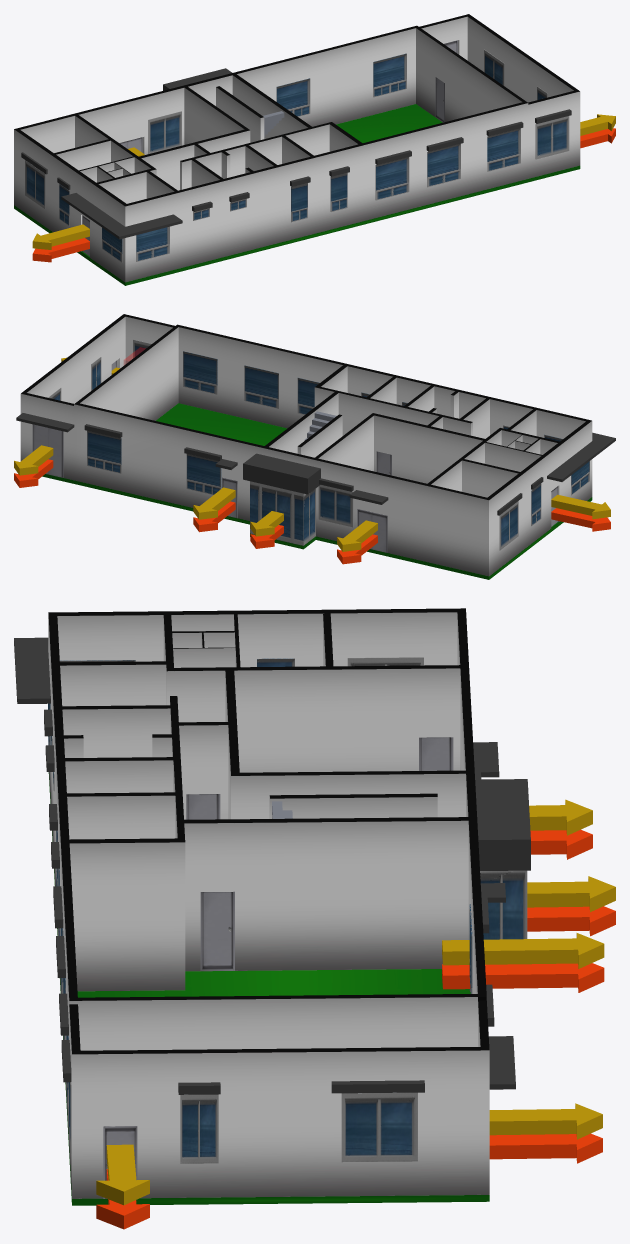
The model's file is soulbrain_UP-3-1F.glb.
3 renders of one model, top to bottom at view 1: azimuth 30°, elevation 25°; view 2: azimuth 150°, elevation 25°; view 3: azimuth 270°, elevation 25°, orthographic. The views are drawn at different scales.
Visible parts, largest first — view 1: Box1982, UP-3-1F, Box001, arrow_Y_6_UP-3-1F, arrow_R_6_UP-3-1F, arrow_Y_5_UP-3-1F, arrow_R_5_UP-3-1F, Box687; view 2: Box1982, UP-3-1F, Box001, arrow_Y_6_UP-3-1F, arrow_R_6_UP-3-1F, arrow_Y_3_UP-3-1F, arrow_Y_1_UP-3-1F, arrow_Y_4_UP-3-1F, arrow_Y_2_UP-3-1F, arrow_R_3_UP-3-1F, arrow_R_1_UP-3-1F, arrow_R_4_UP-3-1F (+1 smaller); view 3: Box1982, UP-3-1F, Box001, arrow_Y_3_UP-3-1F, arrow_R_3_UP-3-1F, arrow_Y_4_UP-3-1F, Box1983, arrow_R_4_UP-3-1F, arrow_Y_2_UP-3-1F, arrow_R_2_UP-3-1F, arrow_Y_5_UP-3-1F, arrow_Y_1_UP-3-1F (+4 smaller).
Part boxes in pixels (box(x1,y1,x2,y2)): Box1982: box(14, 14, 580, 282); UP-3-1F: box(21, 40, 571, 262); Box001: box(14, 104, 580, 285); arrow_Y_6_UP-3-1F: box(32, 224, 89, 249); arrow_R_6_UP-3-1F: box(32, 238, 89, 262); arrow_Y_5_UP-3-1F: box(580, 114, 615, 135); arrow_R_5_UP-3-1F: box(580, 128, 615, 148); Box687: box(435, 77, 444, 122); Box1982: box(20, 314, 592, 576); UP-3-1F: box(16, 339, 615, 552); Box001: box(42, 403, 592, 579); arrow_Y_6_UP-3-1F: box(551, 494, 610, 519); arrow_R_6_UP-3-1F: box(551, 508, 610, 531); arrow_Y_3_UP-3-1F: box(193, 487, 235, 519); arrow_Y_1_UP-3-1F: box(337, 520, 377, 551); arrow_Y_4_UP-3-1F: box(14, 445, 53, 475); arrow_Y_2_UP-3-1F: box(250, 511, 283, 536); arrow_R_3_UP-3-1F: box(193, 501, 235, 532); arrow_R_1_UP-3-1F: box(337, 534, 377, 564); arrow_R_4_UP-3-1F: box(14, 459, 53, 487); Box1982: box(48, 608, 489, 1198); UP-3-1F: box(14, 637, 530, 1198); Box001: box(48, 772, 489, 1205); arrow_Y_3_UP-3-1F: box(442, 933, 604, 968); arrow_R_3_UP-3-1F: box(442, 963, 604, 992); arrow_Y_4_UP-3-1F: box(489, 1103, 602, 1139); Box1983: box(200, 891, 234, 971); arrow_R_4_UP-3-1F: box(489, 1133, 602, 1163); arrow_Y_2_UP-3-1F: box(527, 876, 615, 912); arrow_R_2_UP-3-1F: box(527, 906, 615, 936); arrow_Y_5_UP-3-1F: box(96, 1144, 149, 1205); arrow_Y_1_UP-3-1F: box(529, 799, 592, 835).
Size of the model in its own units: 33.53 by 4.5 by 15.86.
19 materials, 14 textured.
